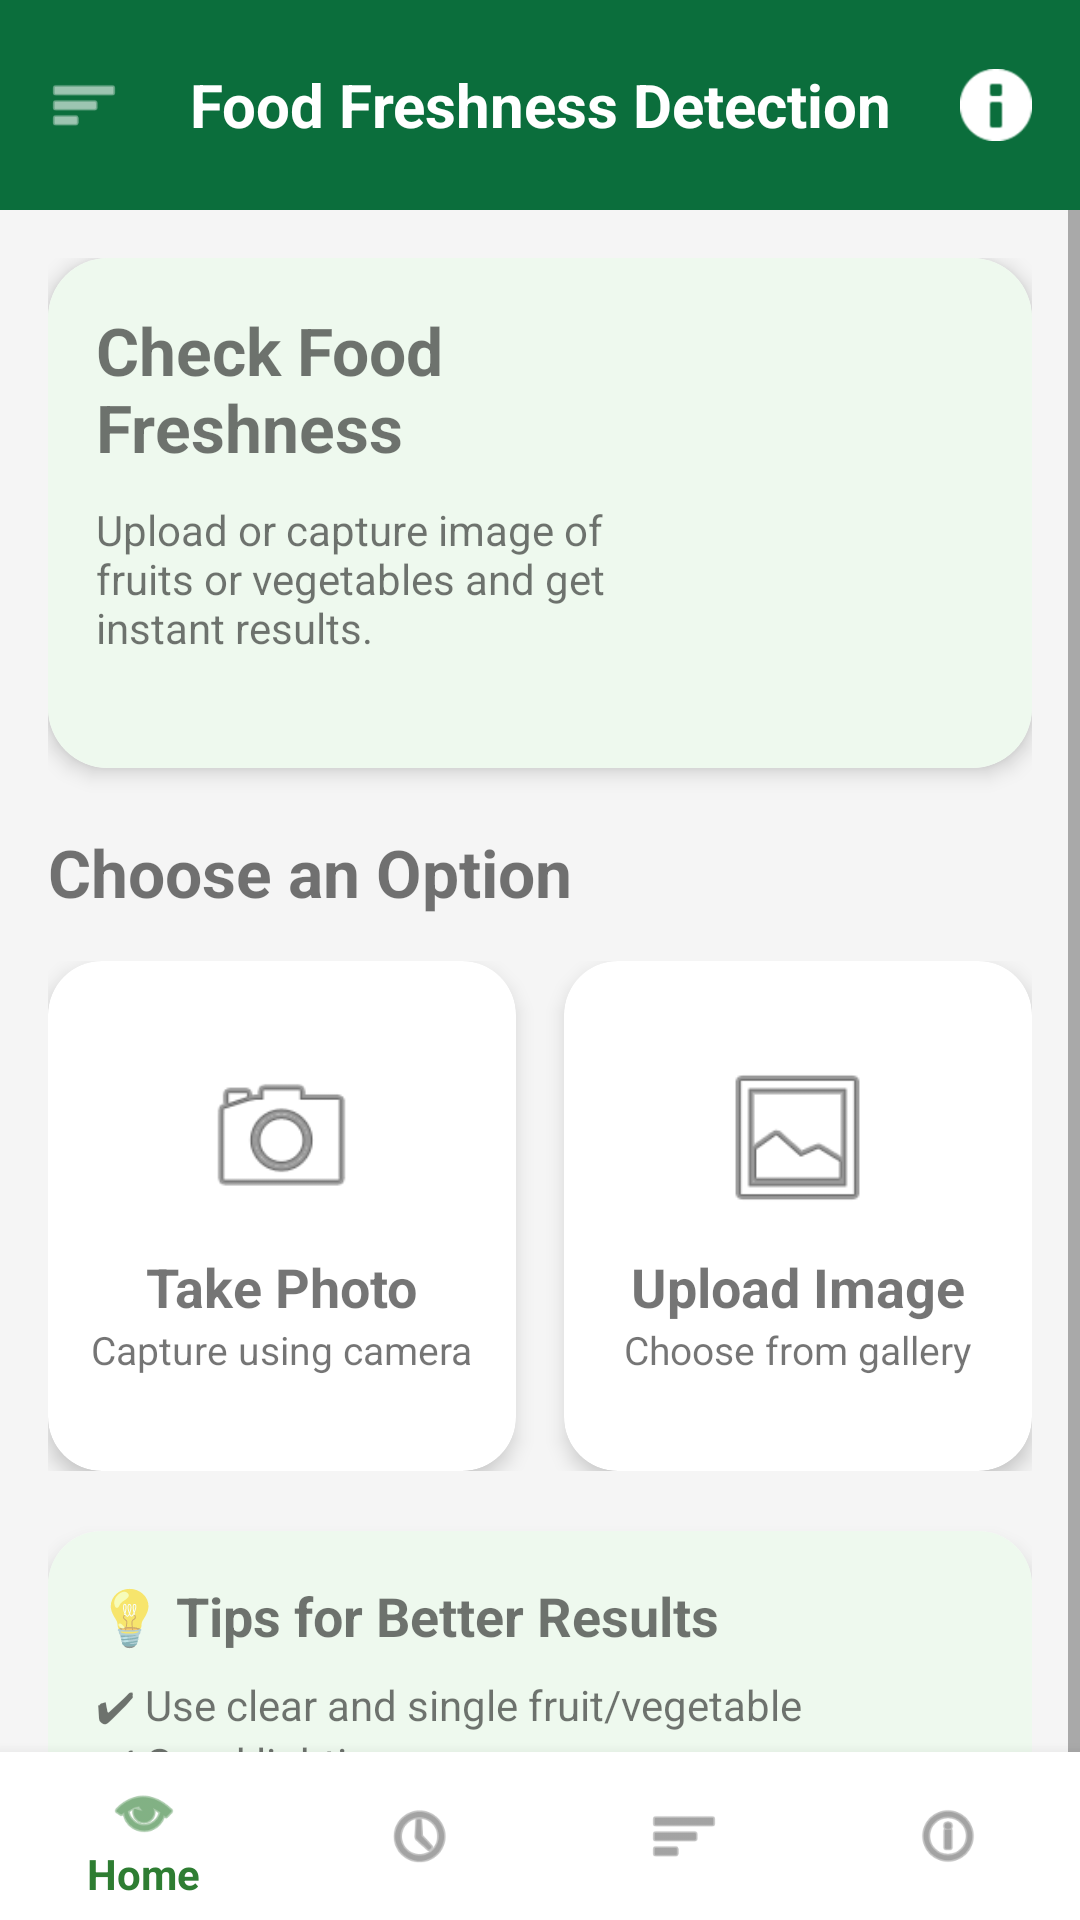

Locate icon controls on the screen. Image size 1080w x 1920h, boxes as bbox(x1, y1, x2, y2).
info: bbox(960, 69, 1032, 141)
